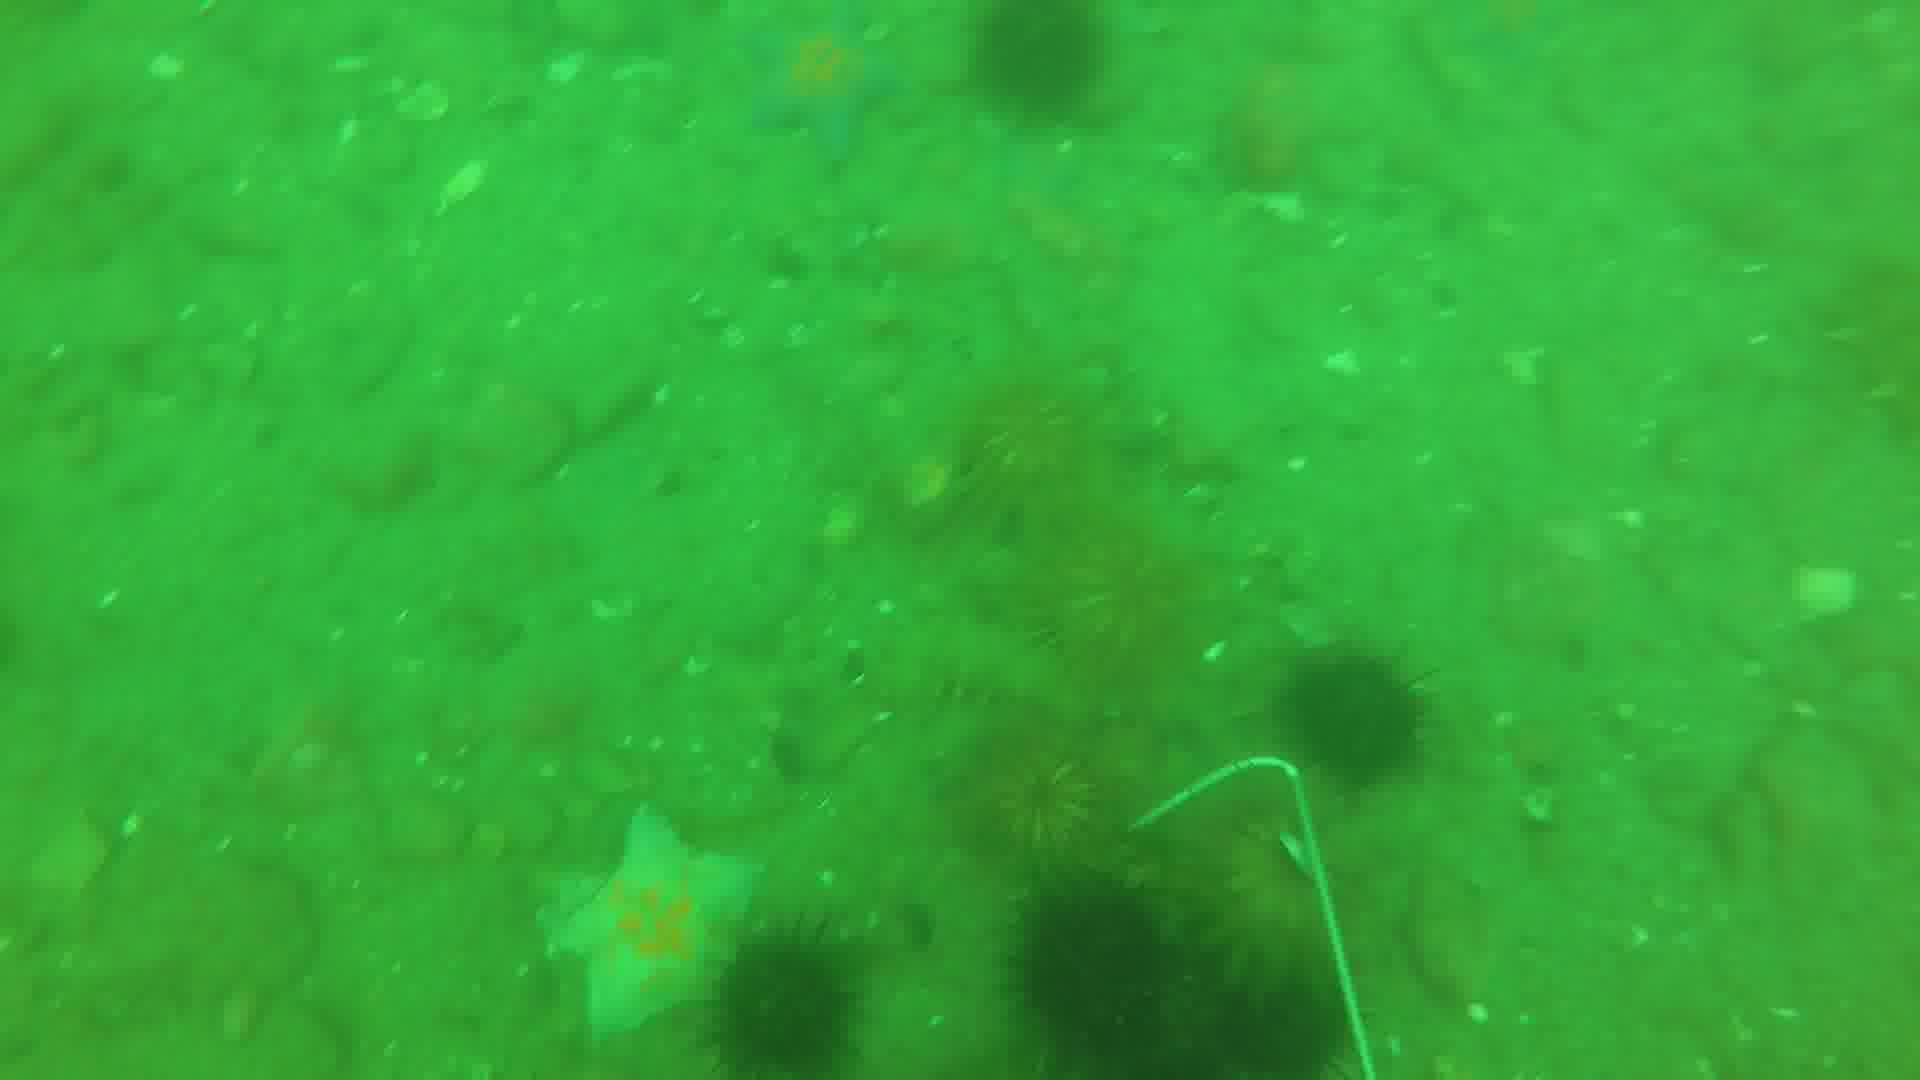echinus: (985, 881, 1205, 1080), (969, 707, 1134, 889), (960, 376, 1127, 531), (700, 928, 864, 1080), (1030, 525, 1200, 670), (1273, 644, 1427, 785), (1188, 957, 1352, 1080), (947, 7, 1114, 120)
scallop: (427, 157, 491, 212), (396, 74, 462, 125), (911, 458, 955, 520), (825, 504, 862, 551)
starfish: (531, 802, 767, 1040), (753, 1, 905, 160)
